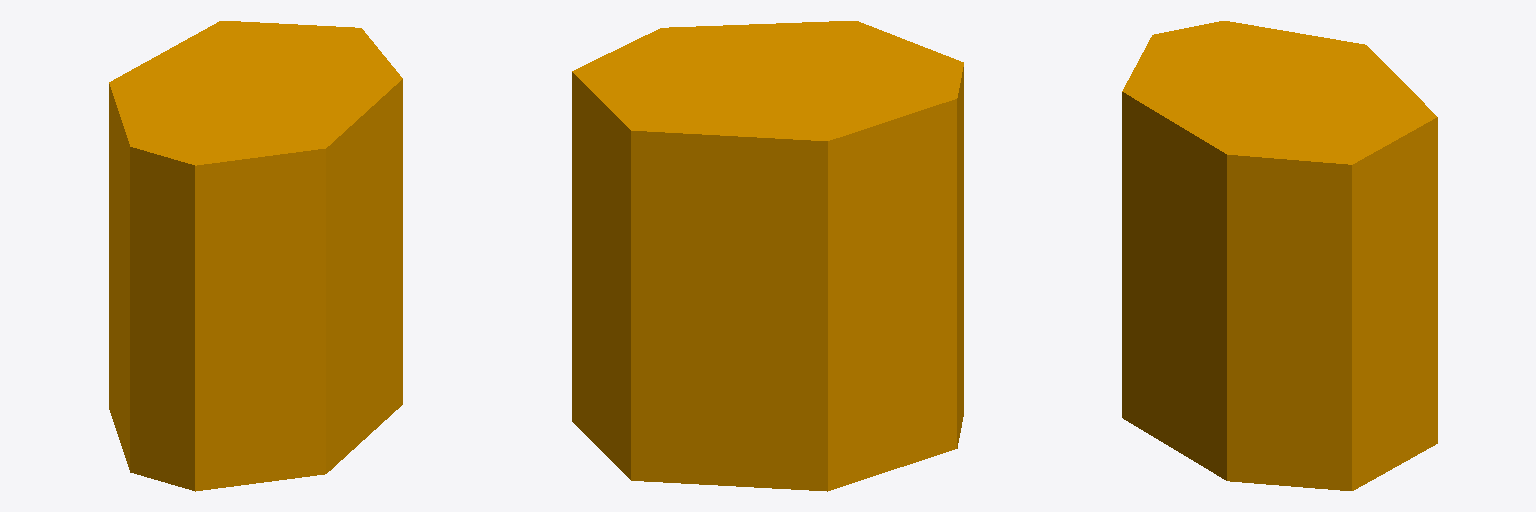
The robot description file, URDF, robot "object":
<?xml version="1.0"?>
<robot name="object">
  <link name="object">
    <visual>
      <origin xyz="0 0 0"/>
      <geometry>
        <mesh filename="meshes/generated/col_121.obj" scale="0.03 0.03 0.03"/>
      </geometry>
    </visual>
    <collision>
      <origin xyz="0 0 0"/>
      <geometry>
        <mesh filename="meshes/generated/col_121.obj" scale="0.03 0.03 0.03"/>
      </geometry>
    </collision>
    <inertial>
      <density value="1000.0"/>
    </inertial>
  </link>
</robot>

--- What the picture shows (computed from the rendered views, not written in the file) ---
The picture shows the robot from 3 angles, left to right: view 1: azimuth 30°, elevation 25°; view 2: azimuth 150°, elevation 25°; view 3: azimuth 270°, elevation 25°; orthographic projection.
Robot: object — 1 links, 0 joints (none); root link object; default pose: all joints at 0.
Links seen in each view (by area): view 1: object; view 2: object; view 3: object.
Link boxes in pixels (left/top/right/bottom): object: left=109, top=21, right=402, bottom=491; object: left=572, top=21, right=963, bottom=491; object: left=1122, top=21, right=1437, bottom=490.
Size in the robot's own frame: 0.0569 by 0.0525 by 0.06 metres.
1 mesh visuals loaded from 1 distinct referenced files (1 OBJ).
